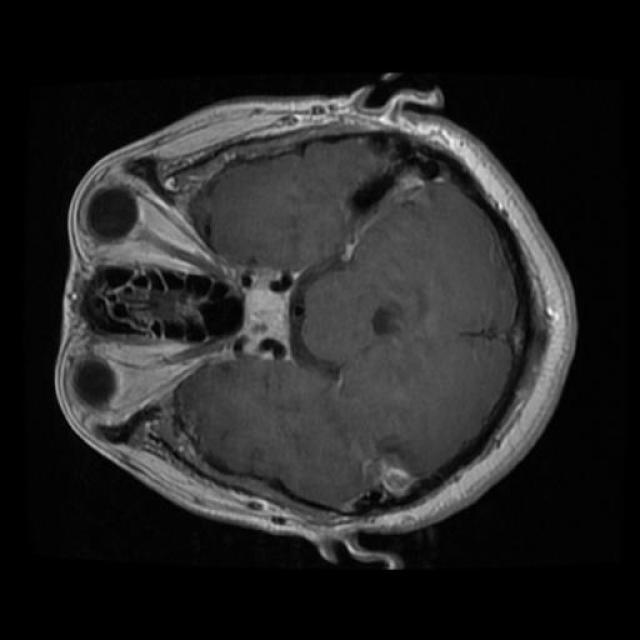Pituitary: (229, 265, 302, 361)
